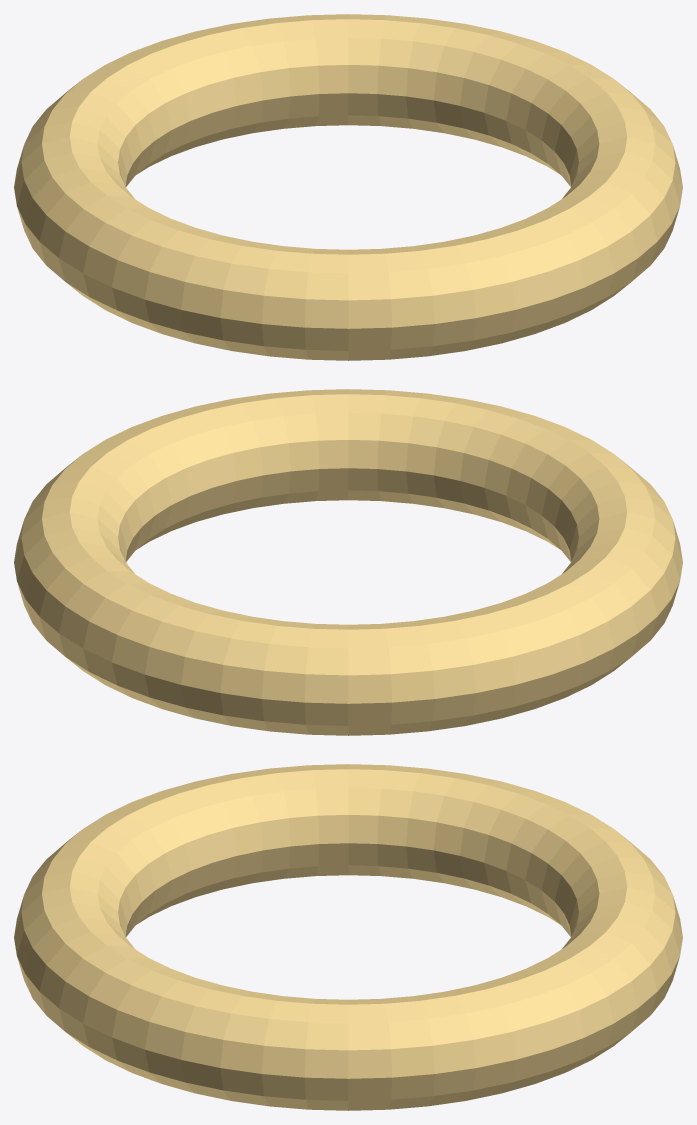
Rendered from ring_export.glb.
3 renders of one model, top to bottom at view 1: azimuth 30°, elevation 25°; view 2: azimuth 150°, elevation 25°; view 3: azimuth 270°, elevation 25°, orthographic.
Parts seen in each view (by area): view 1: RingBase; view 2: RingBase; view 3: RingBase.
Part boxes in pixels (<box>): RingBase: <box>14,14,682,360</box>; RingBase: <box>14,389,682,735</box>; RingBase: <box>14,764,682,1110</box>.
Size of the model in its own units: 2.4 by 0.4 by 2.4.
